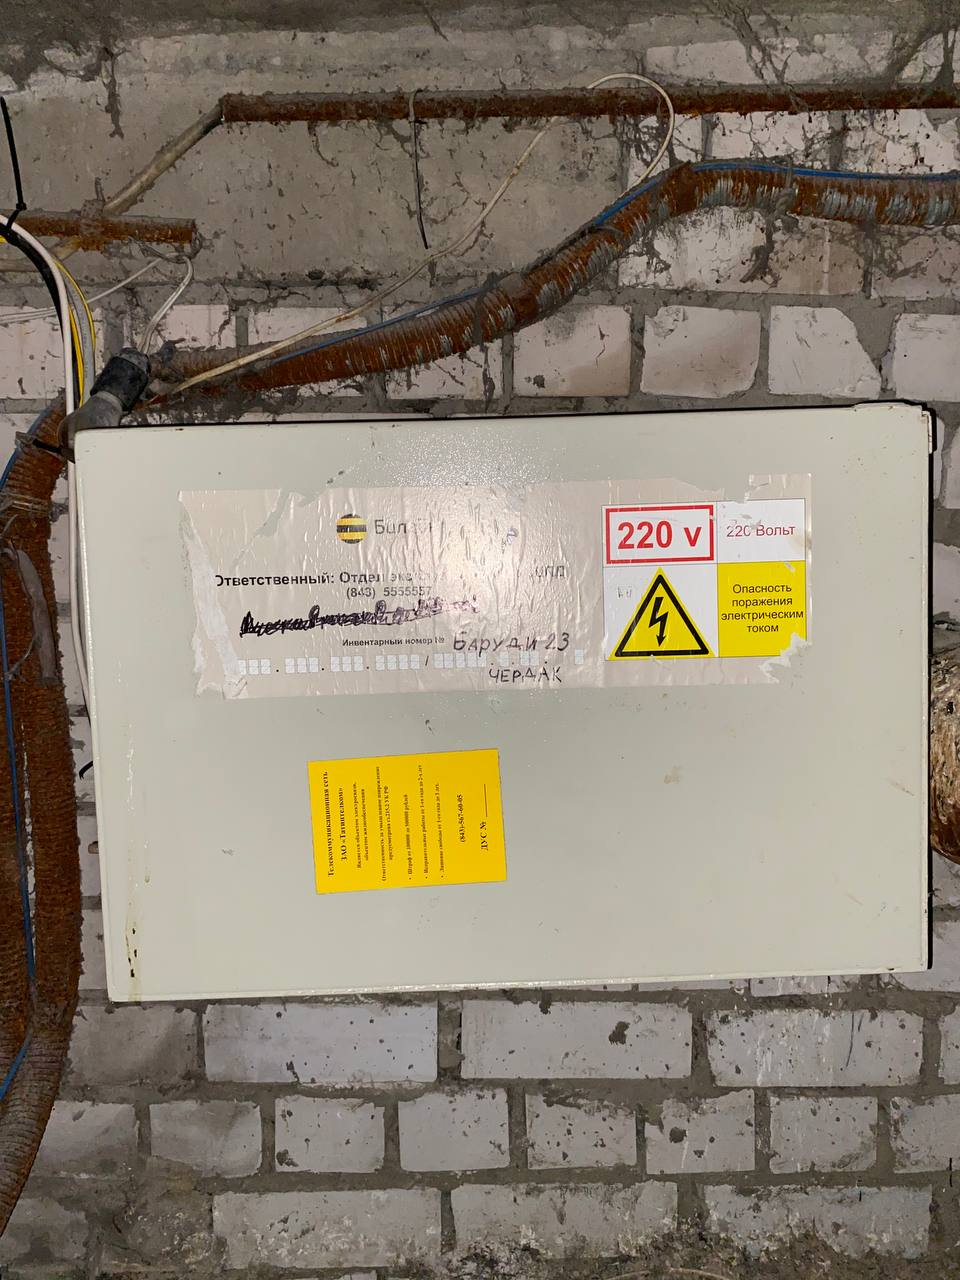sv-5: (64, 396, 938, 1008)
